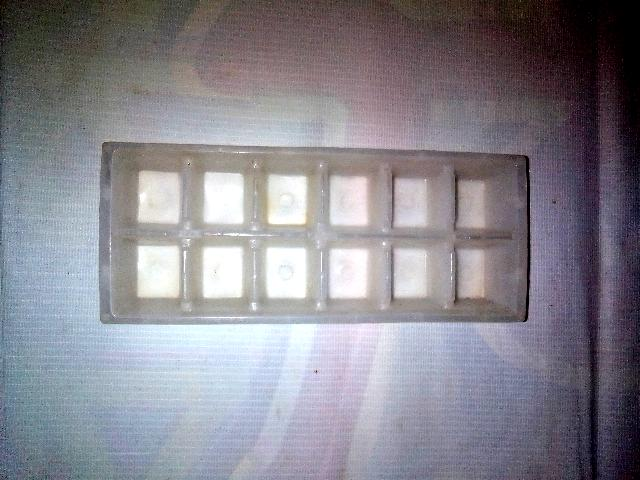hardplastic: (99, 127, 544, 338)
